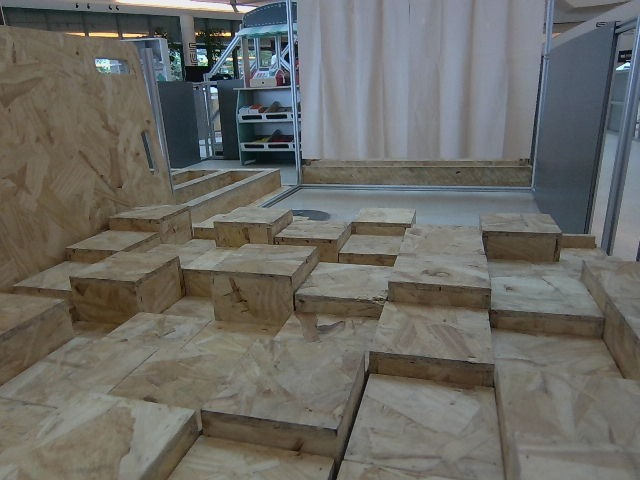curtain: (307, 0, 541, 154)
